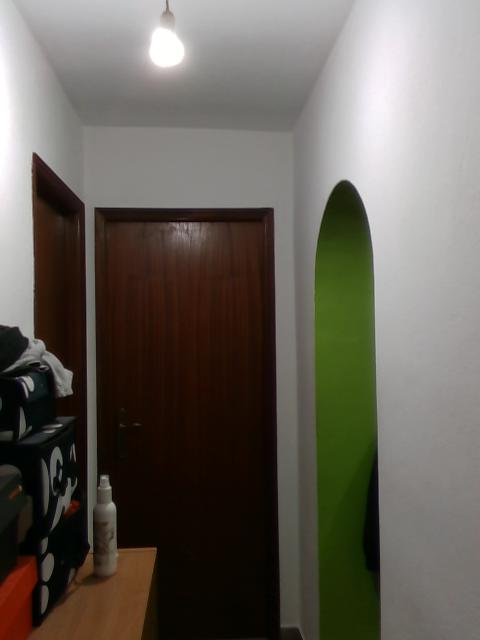closed_door: (92, 207, 275, 639)
